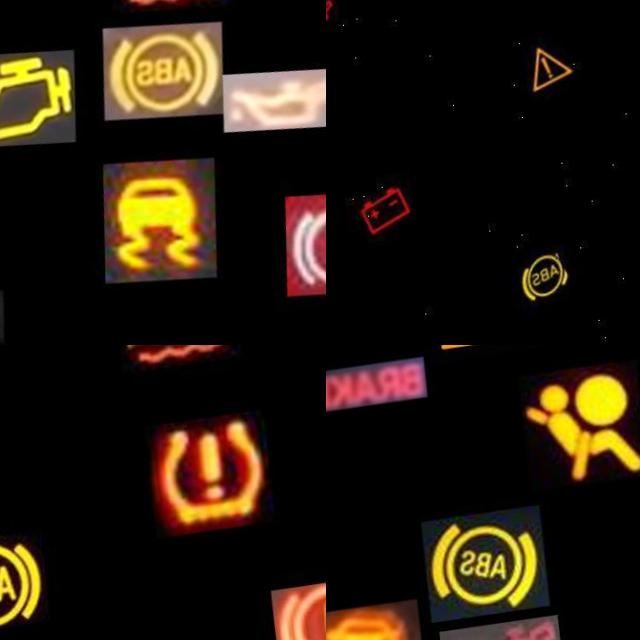Central Warning lamp: (415, 345, 547, 377)
Engine cooling system: (104, 345, 236, 384), (98, 0, 239, 36)
